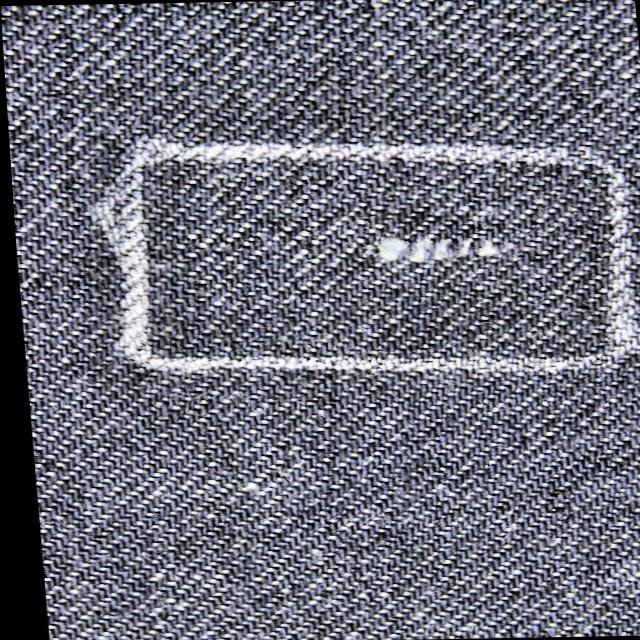Hole: (330, 211, 544, 291)
